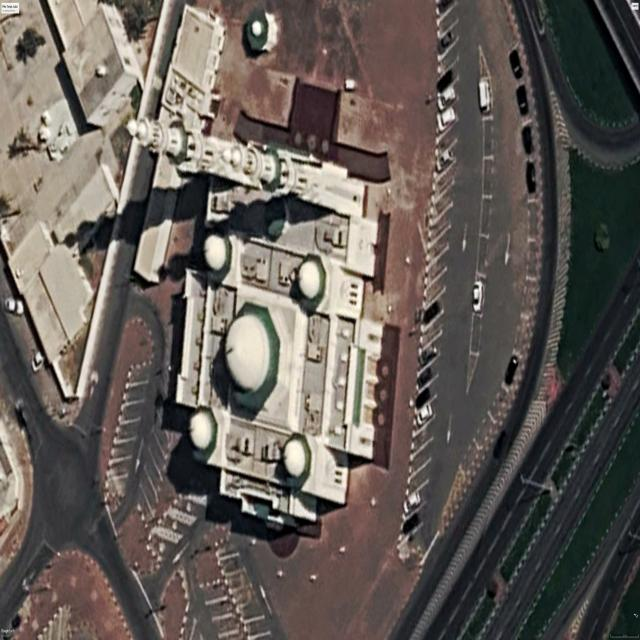Home: (127, 117, 384, 526)
